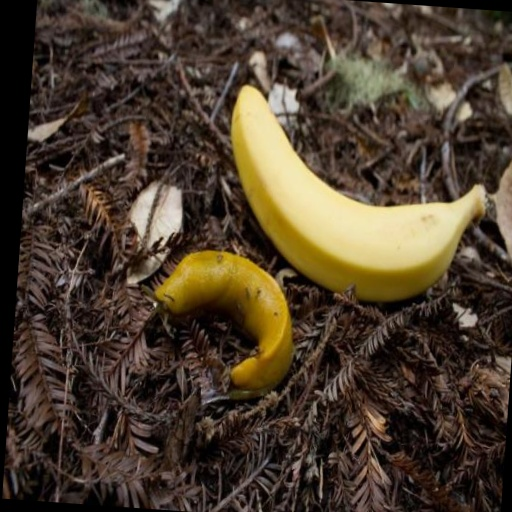fruit: (231, 86, 484, 301), (155, 251, 293, 399)
